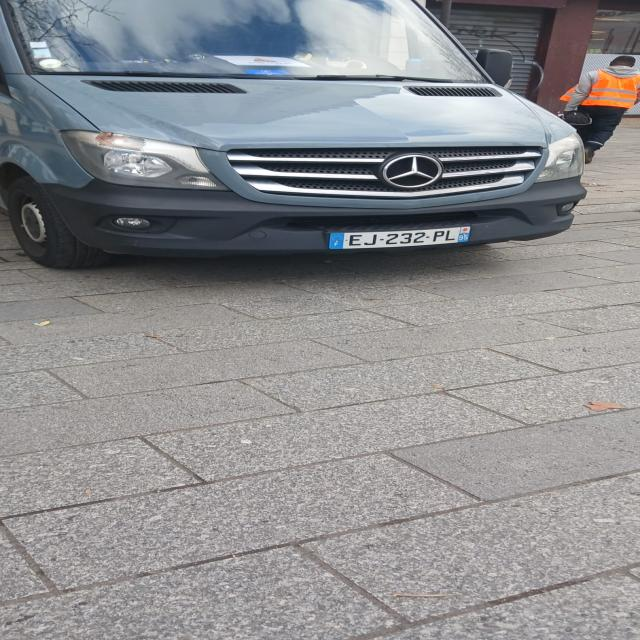Autre: (319, 230, 482, 244)
